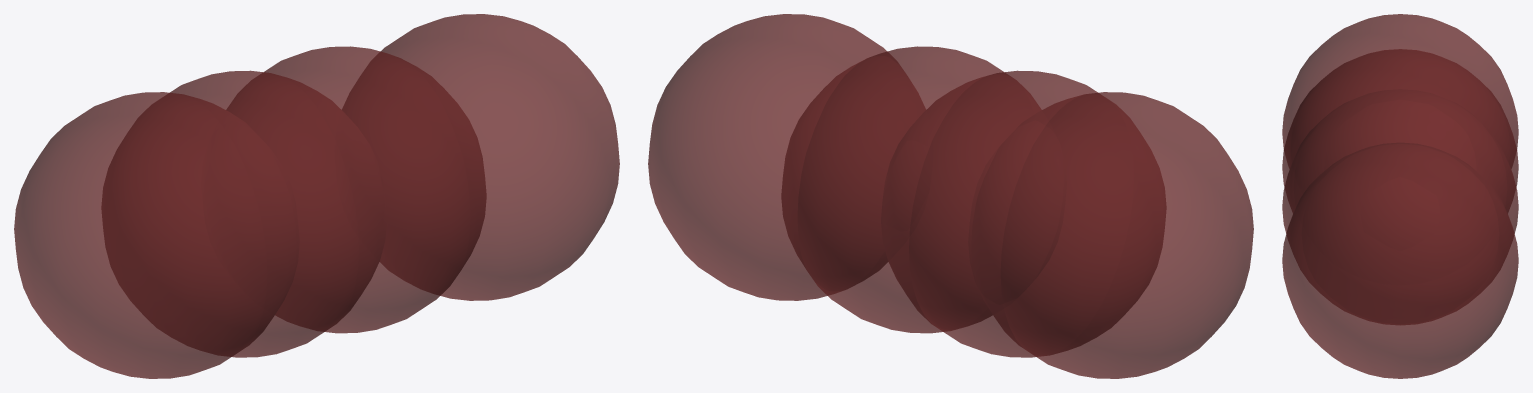
The model's file is House10.fbx.
The picture shows the model from 3 angles, left to right: view 1: azimuth 30°, elevation 25°; view 2: azimuth 150°, elevation 25°; view 3: azimuth 270°, elevation 25°; orthographic projection. The views are drawn at different scales.
Visible parts, largest first — view 1: House10Ball6, House10Ball5, House10Ball3, House10Ball4; view 2: House10Ball6, House10Ball5, House10Ball3, House10Ball4; view 3: House10Ball3, House10Ball4, House10Ball5, House10Ball6.
Part boxes in pixels (left/top/right/bottom): House10Ball6: left=14, top=92, right=299, bottom=378; House10Ball5: left=101, top=70, right=386, bottom=357; House10Ball3: left=342, top=14, right=619, bottom=300; House10Ball4: left=201, top=46, right=486, bottom=333; House10Ball6: left=968, top=92, right=1253, bottom=378; House10Ball5: left=881, top=70, right=1166, bottom=357; House10Ball3: left=648, top=14, right=925, bottom=300; House10Ball4: left=781, top=46, right=1066, bottom=333; House10Ball3: left=1282, top=142, right=1518, bottom=378; House10Ball4: left=1282, top=89, right=1518, bottom=324; House10Ball5: left=1282, top=49, right=1518, bottom=211; House10Ball6: left=1282, top=14, right=1518, bottom=167.
Bounding box in the file's own units: 59.89 × 26.2 × 26.2.
